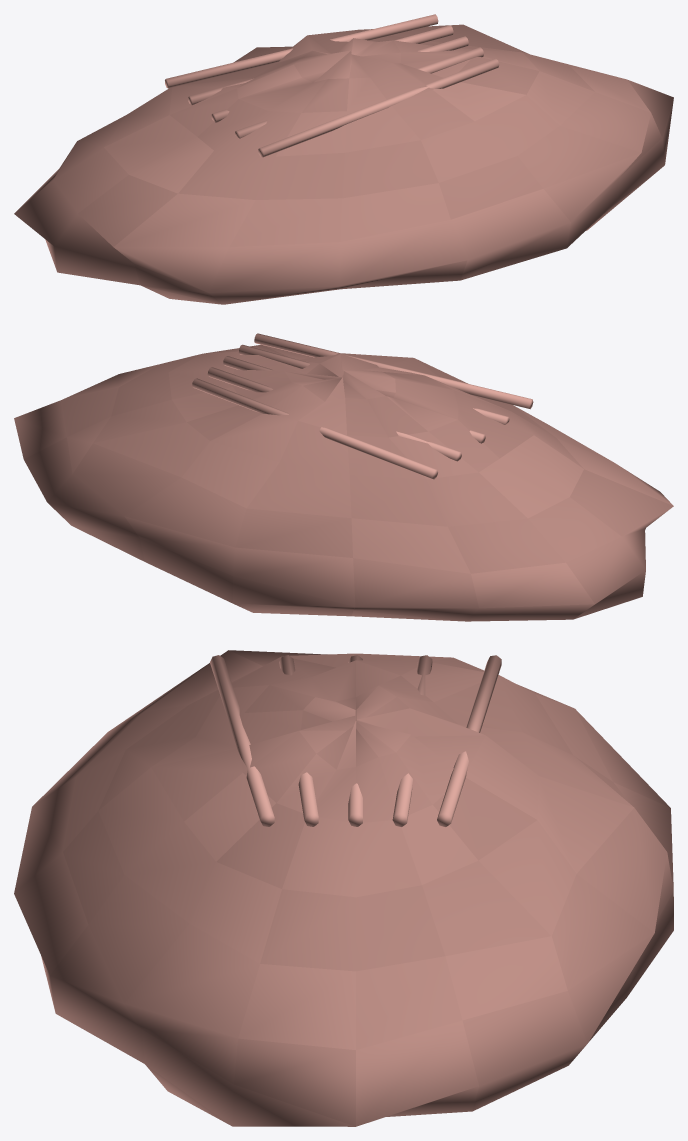
File: Turkey.glb
3 views of the same model, one above another, from view 1: azimuth 30°, elevation 25°; view 2: azimuth 150°, elevation 25°; view 3: azimuth 270°, elevation 25° (orthographic). The views are drawn at different scales.
Parts seen in each view (by area): view 1: Turkey; view 2: Turkey; view 3: Turkey.
Part boxes in pixels (x1=…): Turkey: x1=14, y1=14, x2=673, y2=304; Turkey: x1=14, y1=333, x2=673, y2=621; Turkey: x1=14, y1=650, x2=673, y2=1126.
Size of what is drawn, in the model's own units: 0.167 by 0.0499 by 0.1046.
